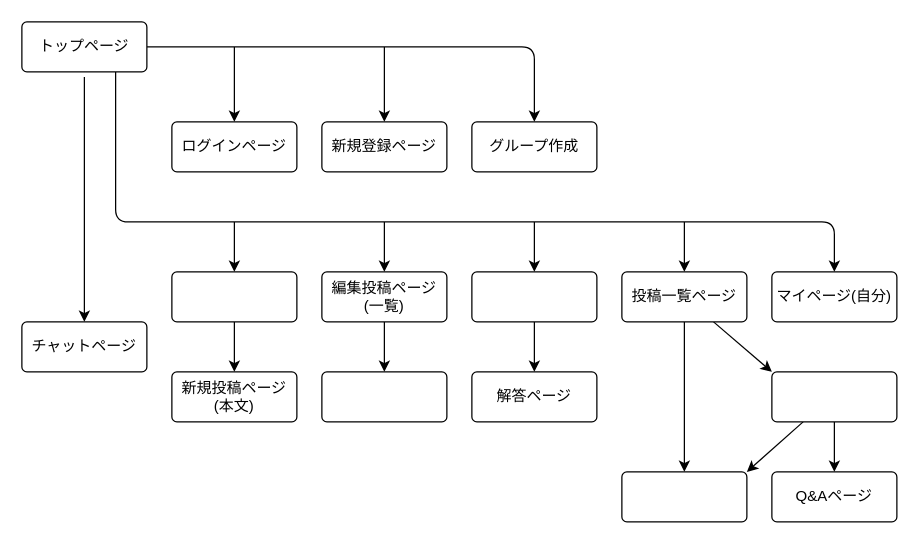
Some shapes in this 919 by 544 pixel diagram are drawn without their labels. The shapes that lost their labels are listed below. From the top down, each one's centre as x and y in pixels, then its label:
At point 234,296: "新規投稿ページ（タイトル)".
At point 534,296: "コメントページ".
At point 384,396: "編集投稿ページ(本文)".
At point 834,396: "投稿詳細ページ".
At point 684,496: "マイページ(他人)".
